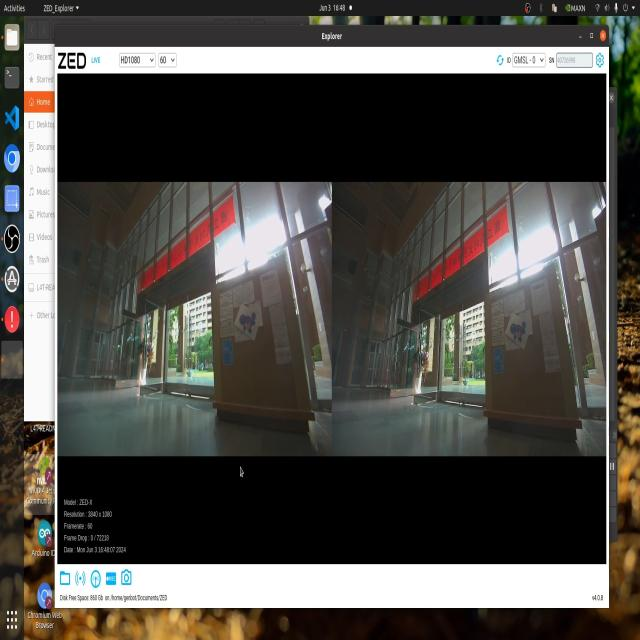blue: (238, 298, 261, 342), (508, 324, 528, 348)
